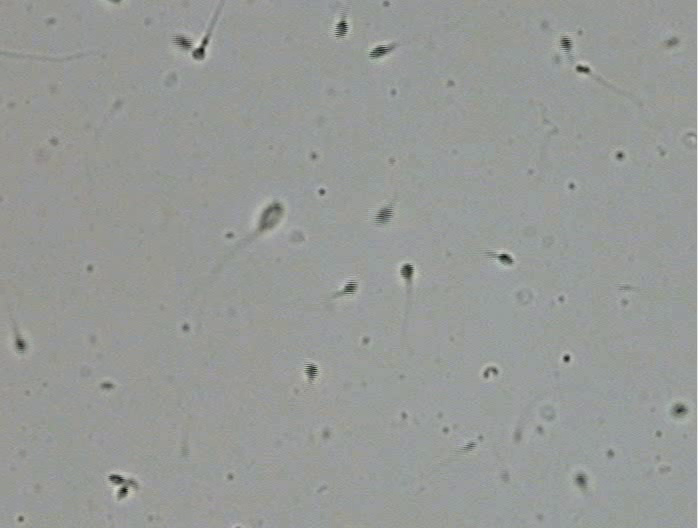S: (259, 201, 283, 231), (374, 207, 394, 225), (171, 34, 191, 49), (368, 45, 390, 58), (304, 361, 319, 380), (334, 20, 349, 38), (343, 279, 358, 295), (400, 263, 415, 279), (498, 252, 514, 266), (560, 35, 573, 52), (107, 474, 125, 485), (672, 404, 687, 417), (14, 336, 26, 352), (192, 46, 205, 60), (575, 473, 587, 486), (576, 64, 590, 74), (117, 486, 127, 498)
